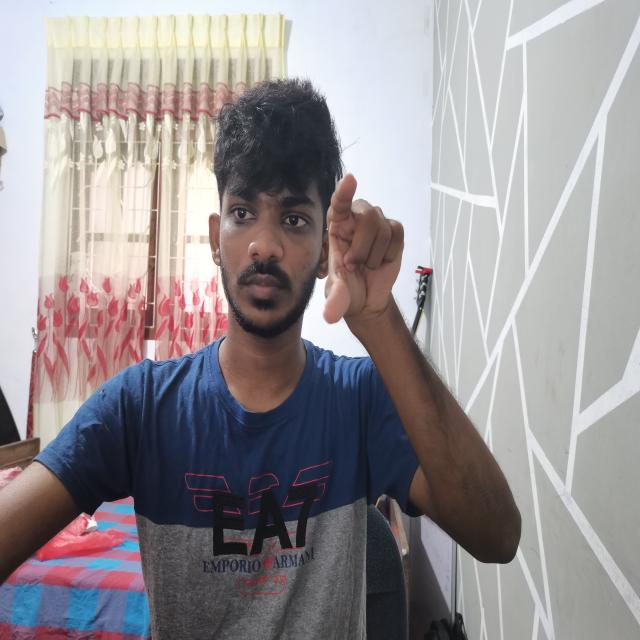No: (312, 150, 431, 351)
